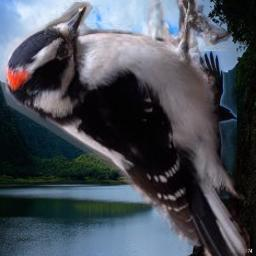Crow: (165, 51, 237, 198)
Woodpecker: (0, 0, 250, 256)
